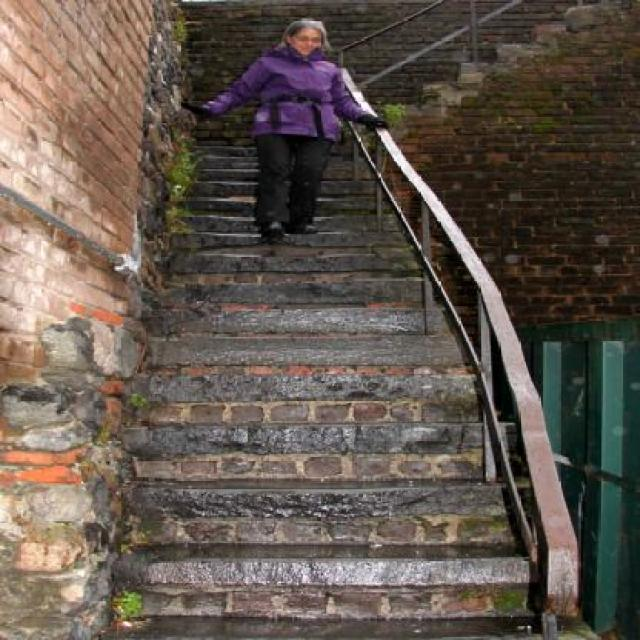stair: (89, 0, 623, 640)
